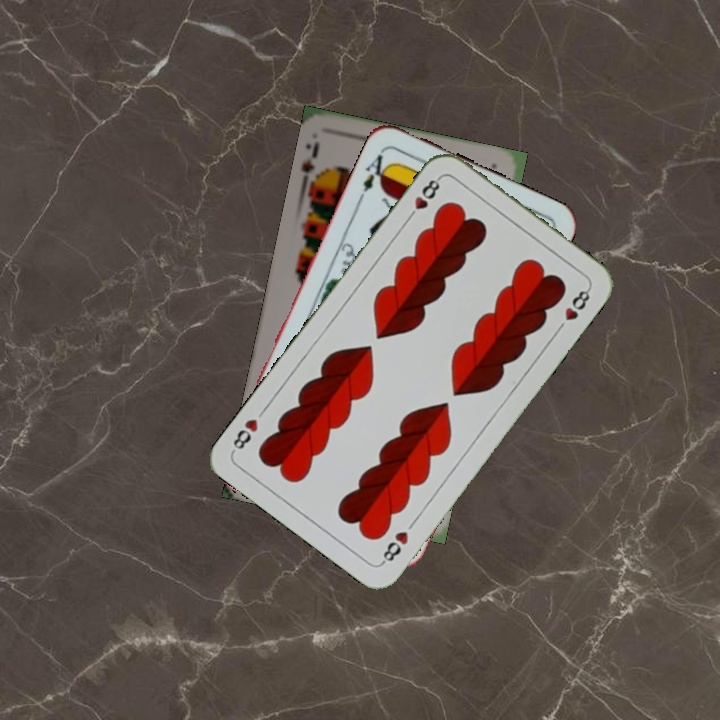EA: (355, 146, 393, 202)
H8: (403, 173, 444, 224), (377, 527, 411, 567)
S9: (296, 137, 325, 192)
